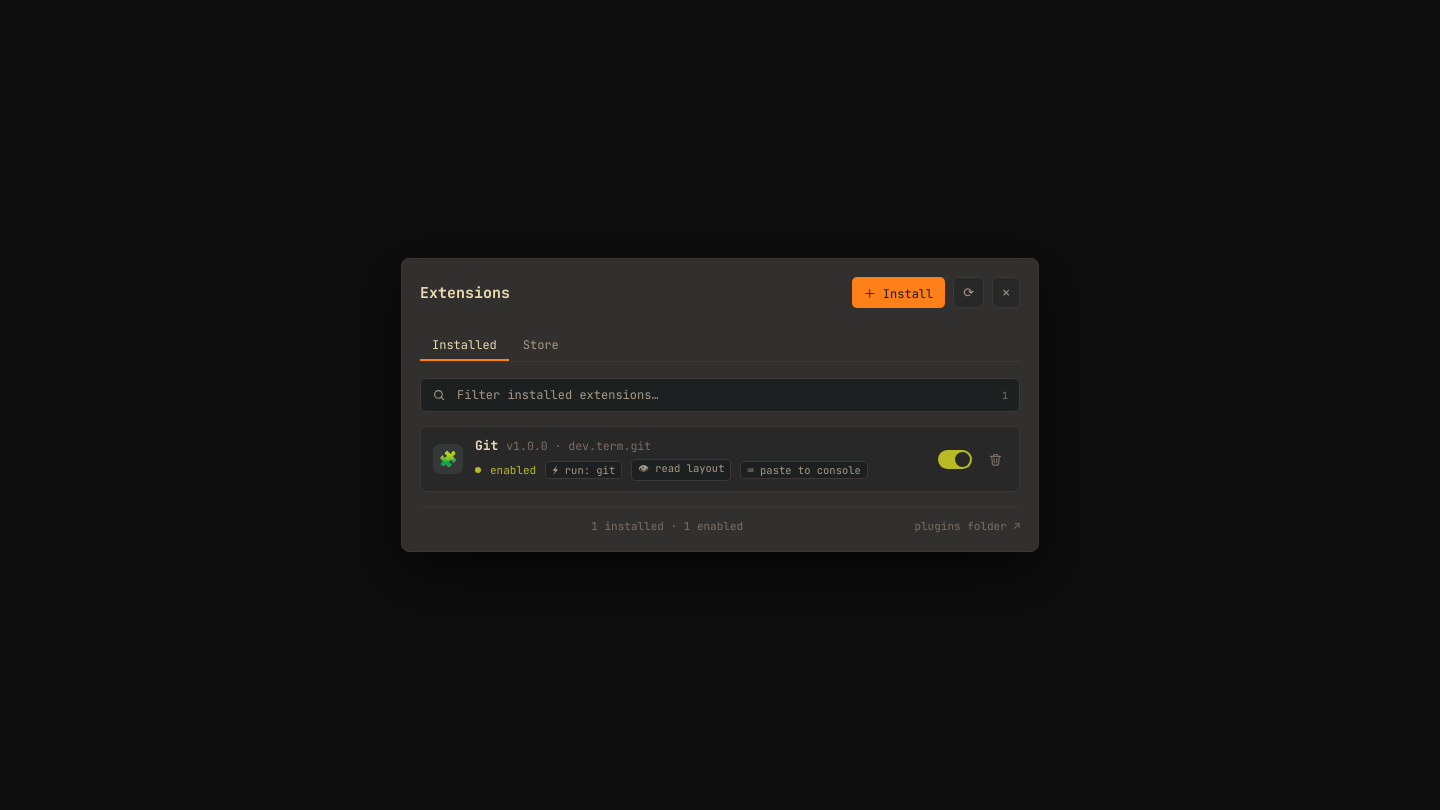
Test case: ExtensionsScreen store tab › switching back to Installed restores the installed list
Click the tab "Store": [541, 346] box [511,331,571,361]
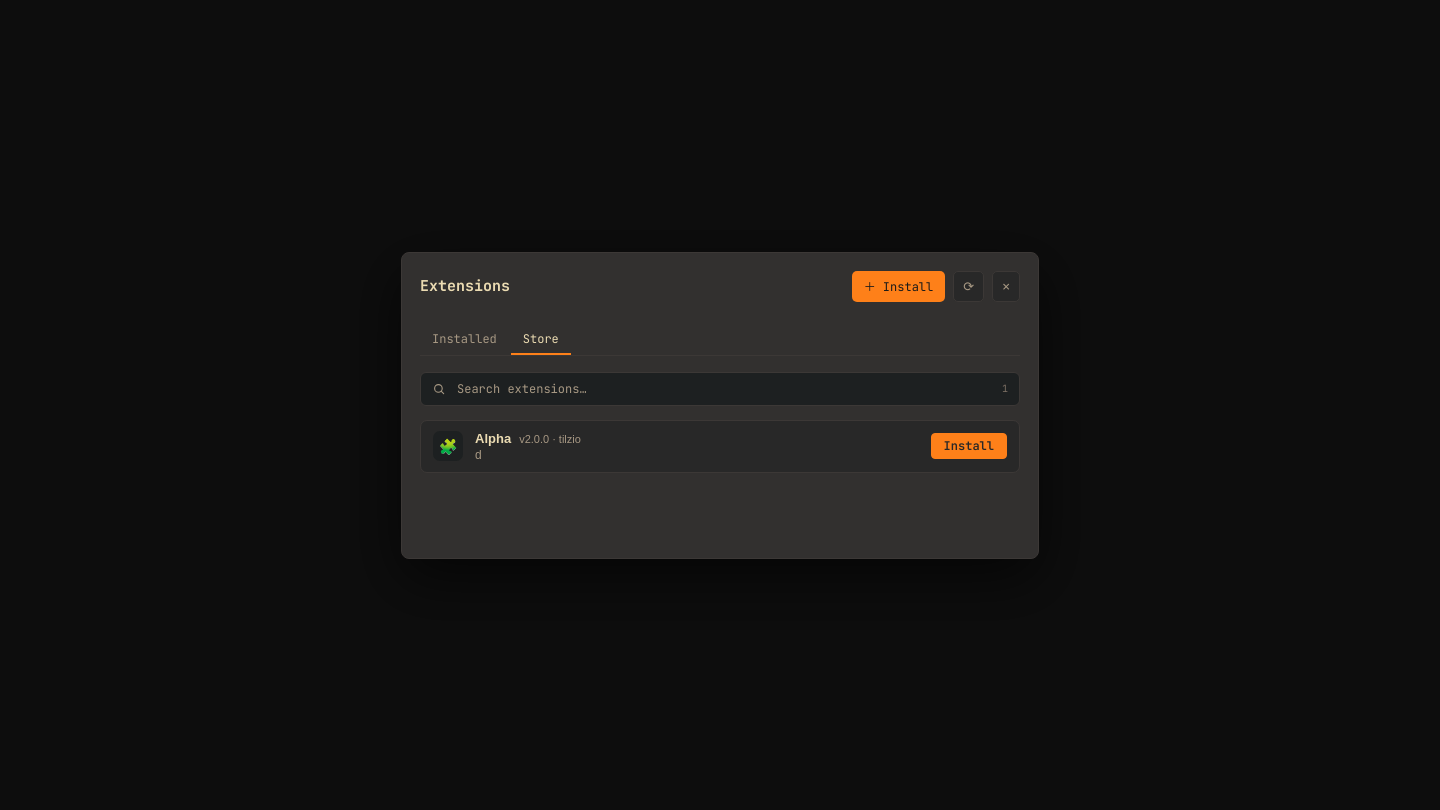
Click the tab "Installed": [464, 340] box [420,324,509,354]
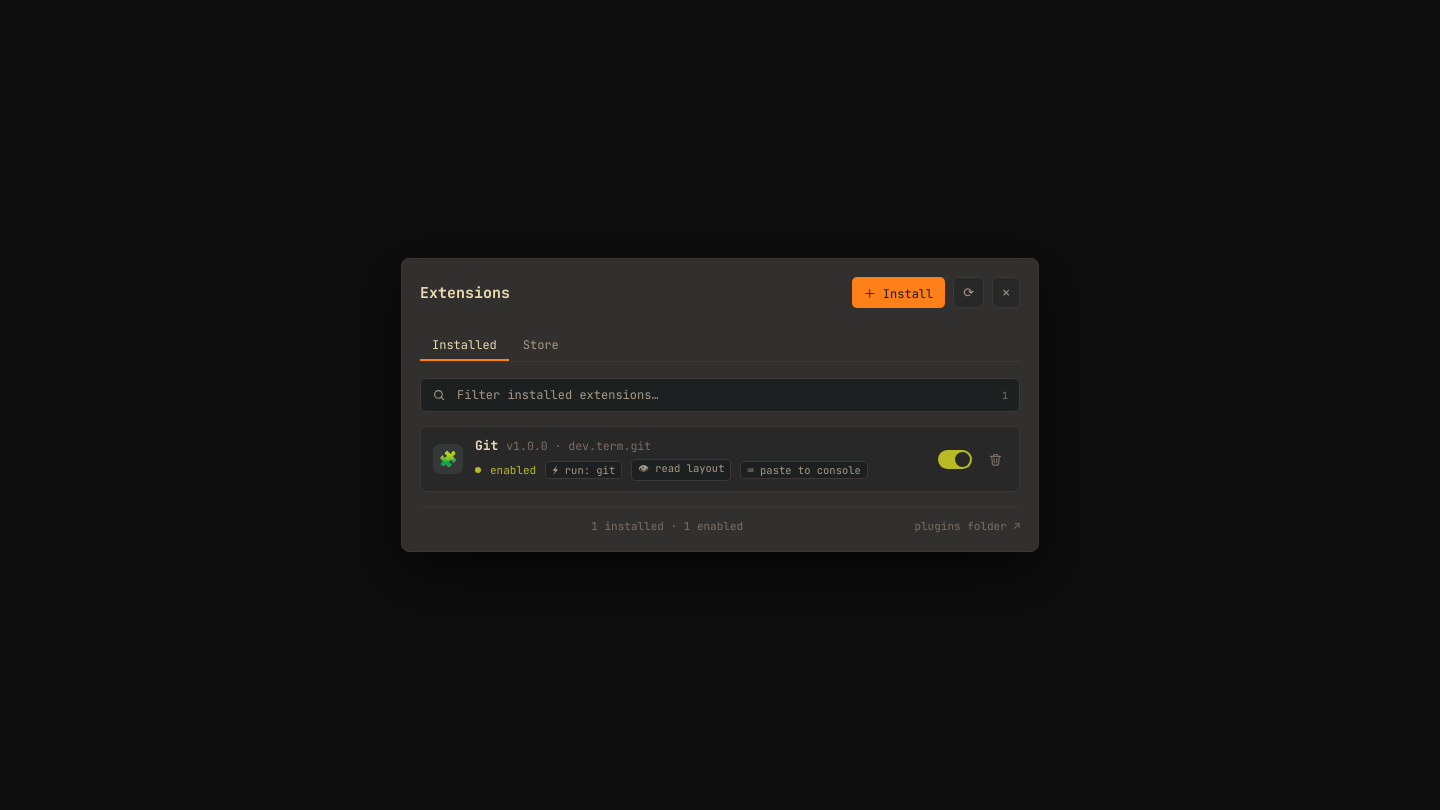
Now the text "Git" is shown, box [475,437,498,454]
